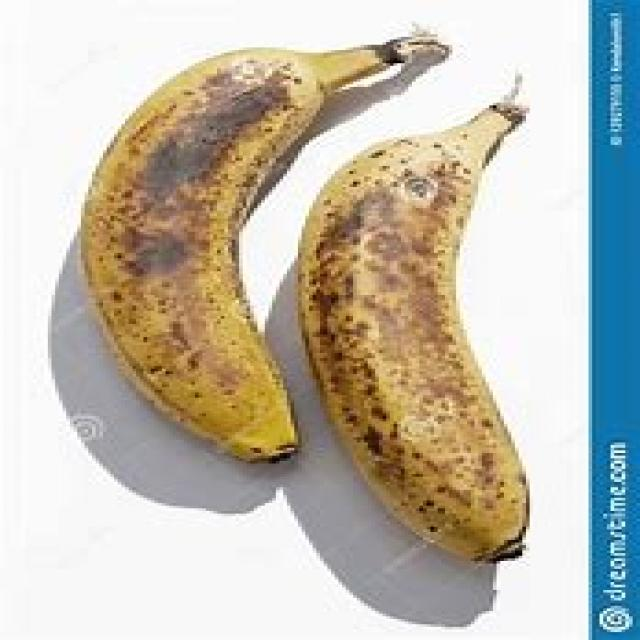Banana: (71, 38, 322, 473), (305, 100, 536, 552)
